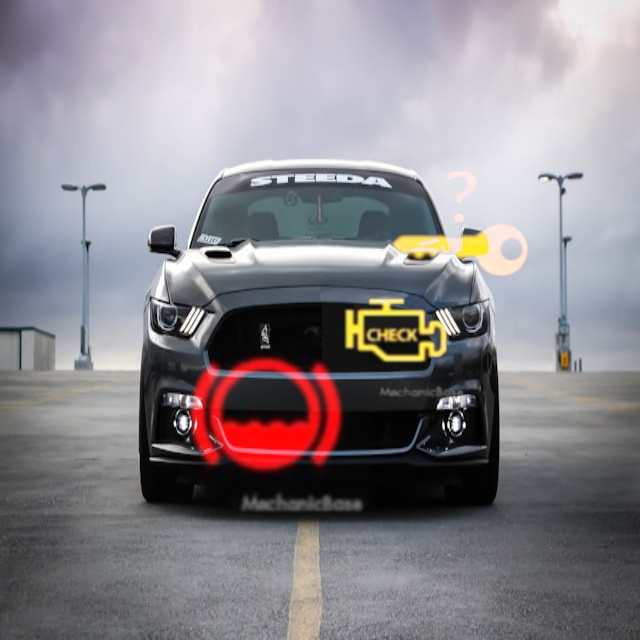symbol: (354, 118, 566, 330), (160, 311, 370, 521), (322, 257, 469, 404)
